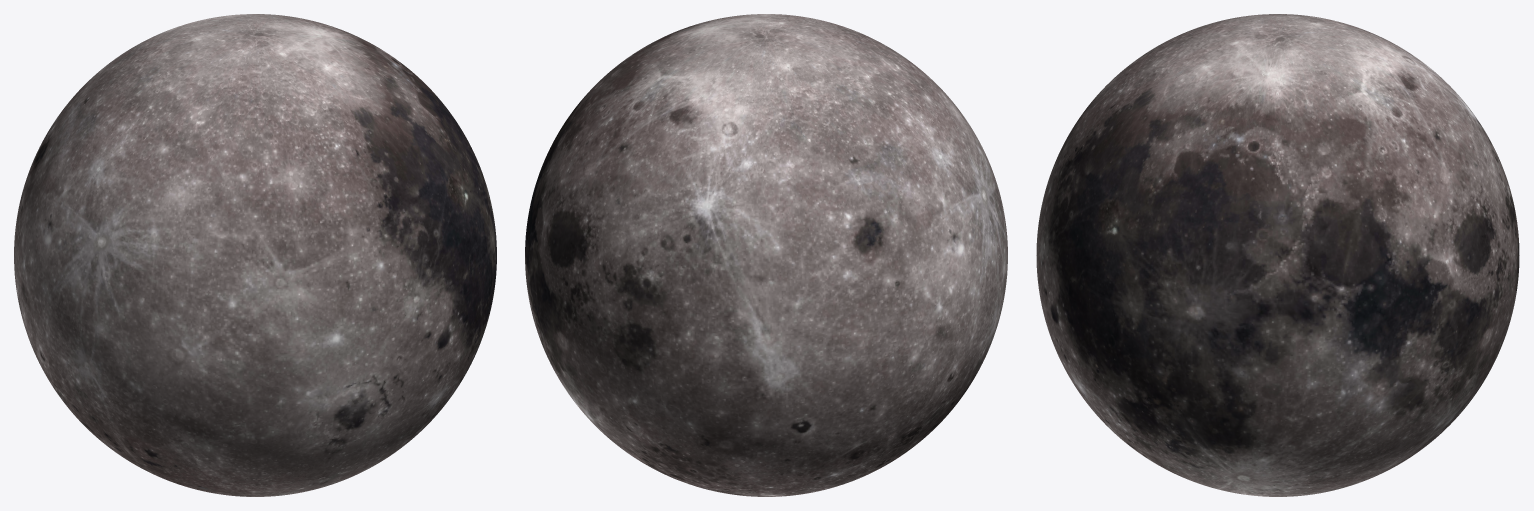
The model's file is moon.glb.
3 renders of one model, left to right at view 1: azimuth 30°, elevation 25°; view 2: azimuth 150°, elevation 25°; view 3: azimuth 270°, elevation 25°, orthographic.
Parts seen in each view (by area): view 1: Sphere; view 2: Sphere; view 3: Sphere.
Boxes of the visible parts, x1,y1,x2,y2 form: Sphere: (14,14,496,496); Sphere: (525,14,1007,496); Sphere: (1036,14,1519,496).
Bounding box in the file's own units: 2 × 2 × 2.
1 material, 1 textured.
